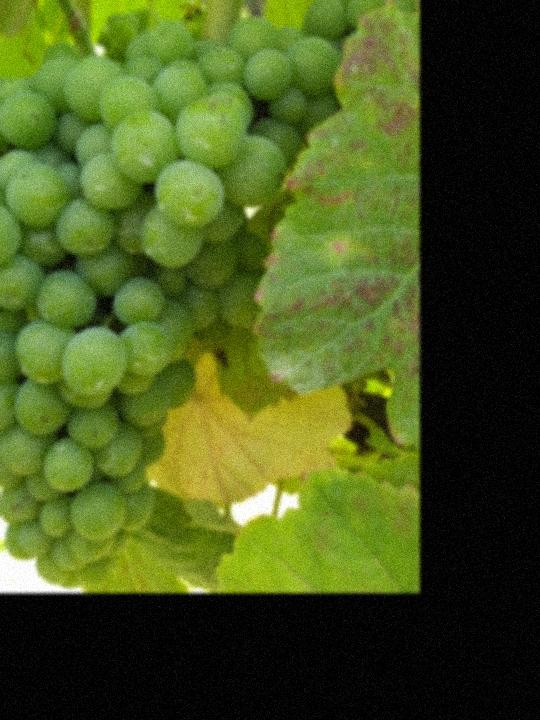grape: (0, 55, 284, 588)
